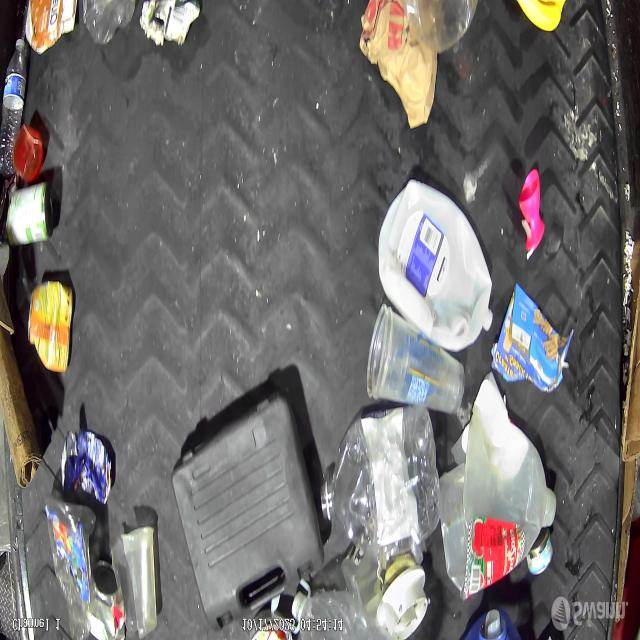can: (29, 280, 75, 376), (61, 428, 114, 506), (6, 178, 54, 248), (86, 560, 127, 639), (527, 526, 555, 576)
milk_jug: (379, 178, 494, 352)
non_white_jug: (455, 605, 533, 640)
plastic_bottle: (323, 407, 439, 561), (1, 34, 30, 168)
